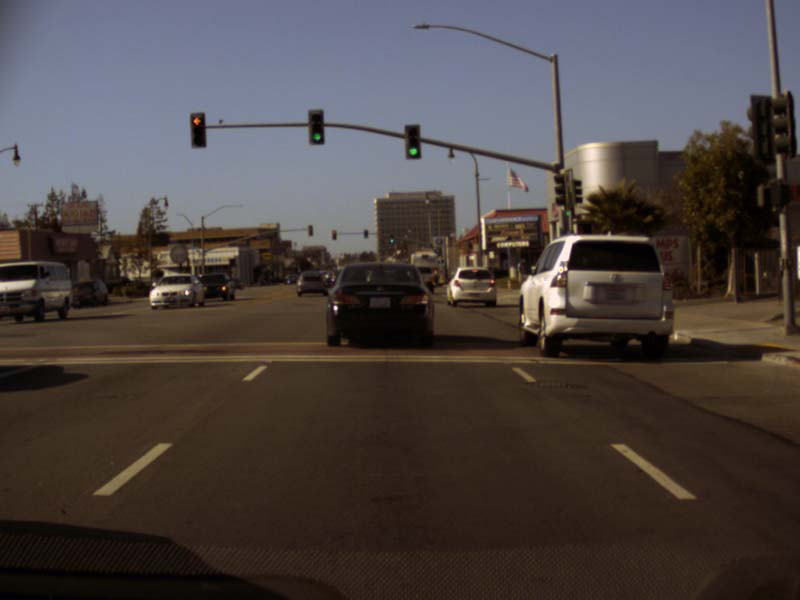Green: (404, 124, 420, 158), (308, 109, 323, 143), (562, 194, 573, 217), (389, 232, 394, 242)
Red: (190, 112, 206, 147), (332, 229, 335, 239)
